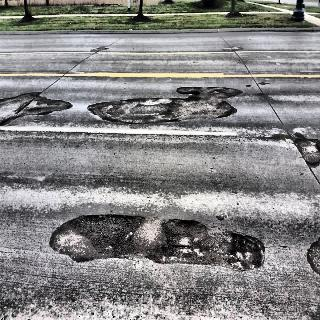pothole: (48, 193, 267, 280), (96, 56, 244, 136), (1, 77, 75, 132), (282, 122, 320, 184), (300, 218, 320, 287)
